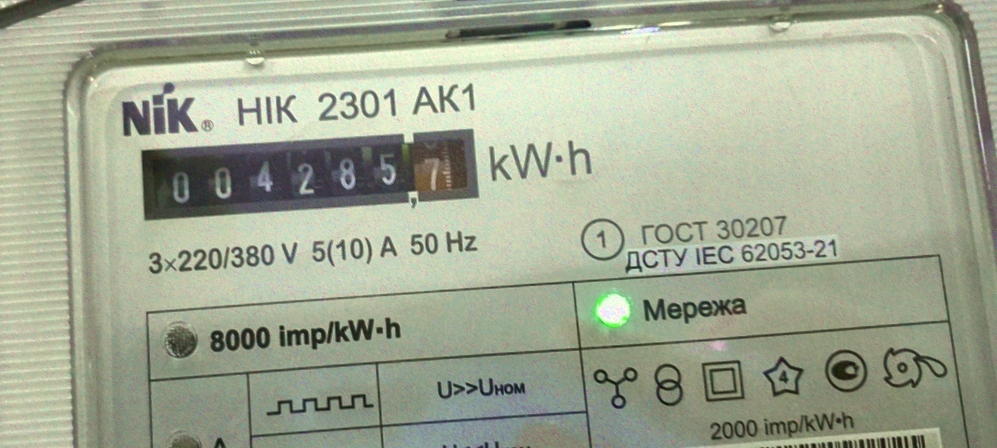0: (210, 162, 233, 200), (168, 166, 190, 203)
2: (294, 158, 315, 195)
4: (254, 156, 273, 192)
5: (375, 148, 397, 185)
7: (420, 154, 441, 191)
8: (334, 153, 357, 191)
screen: (124, 116, 493, 232)
